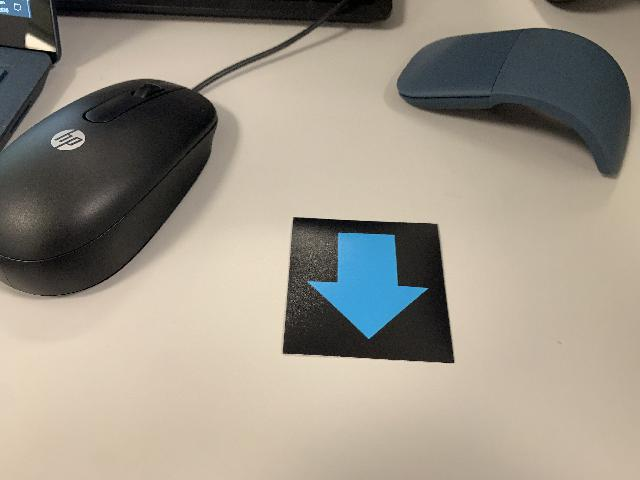down_arrow: (280, 215, 456, 363)
